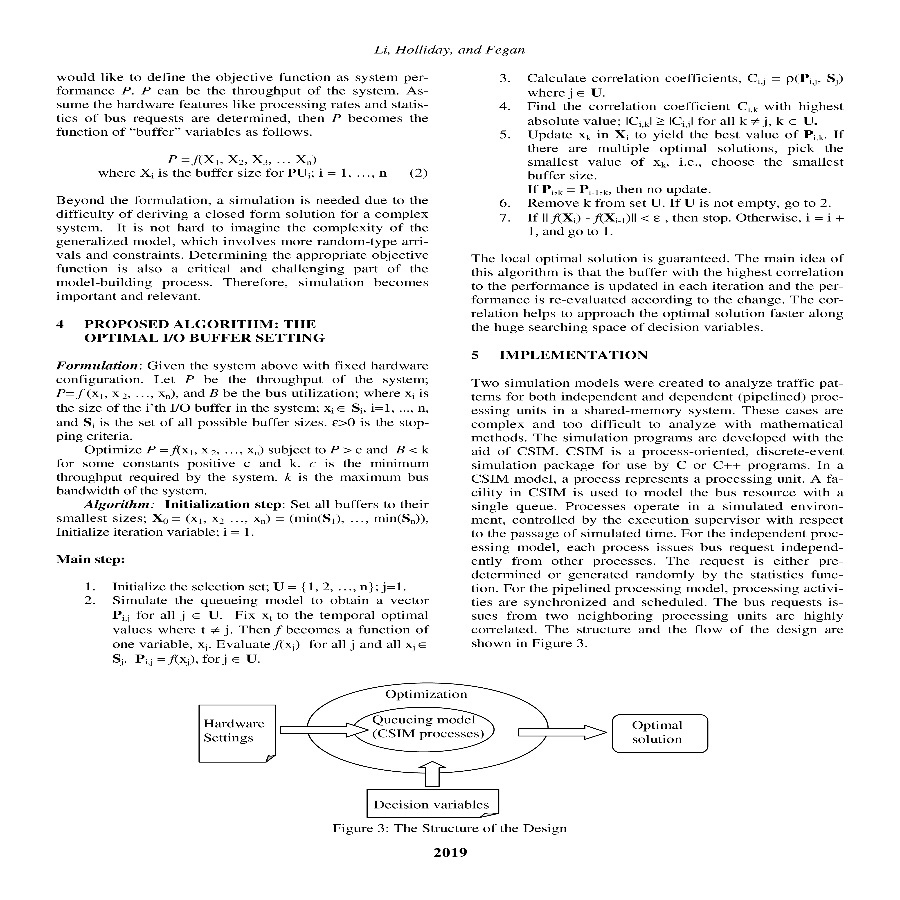eq: (162, 149, 322, 167), (287, 168, 390, 180)
